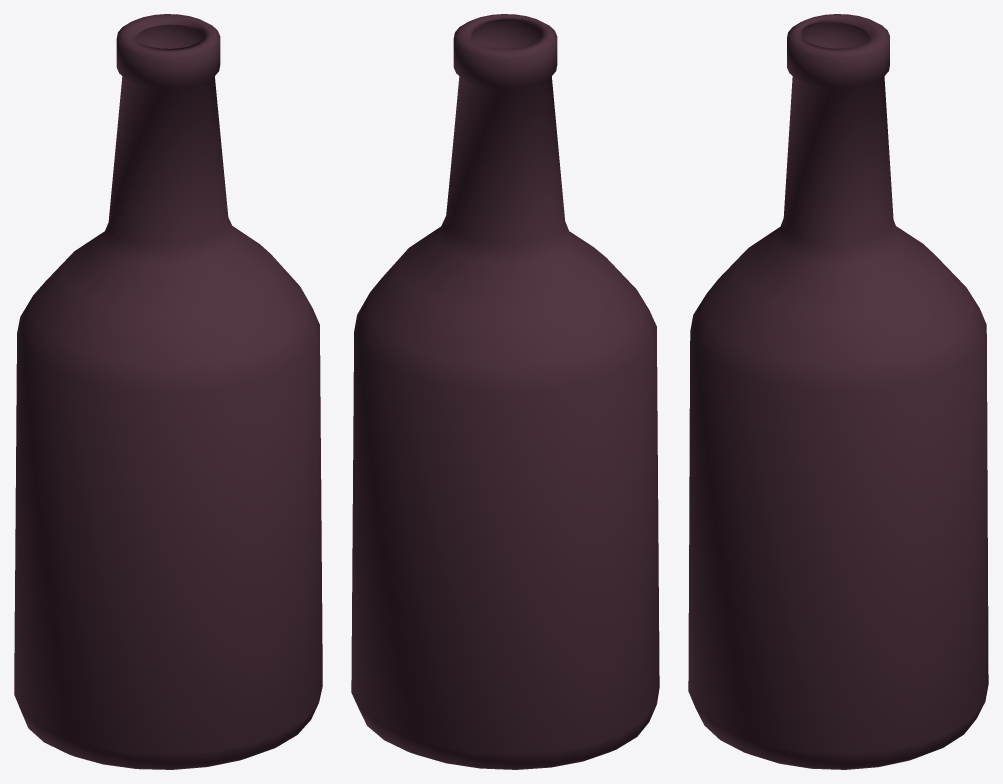
The model's file is Botella03.fbx.
The picture shows the model from 3 angles, left to right: view 1: azimuth 30°, elevation 25°; view 2: azimuth 150°, elevation 25°; view 3: azimuth 270°, elevation 25°; orthographic projection.
Visible parts, largest first — view 1: Botella_Cerveza.001; view 2: Botella_Cerveza.001; view 3: Botella_Cerveza.001.
Boxes of the visible parts, <box> form: Botella_Cerveza.001: <box>14,14,322,769</box>; Botella_Cerveza.001: <box>351,14,659,769</box>; Botella_Cerveza.001: <box>688,14,988,769</box>.
Bounding box in the file's own units: 1260 × 3044 × 1220.
